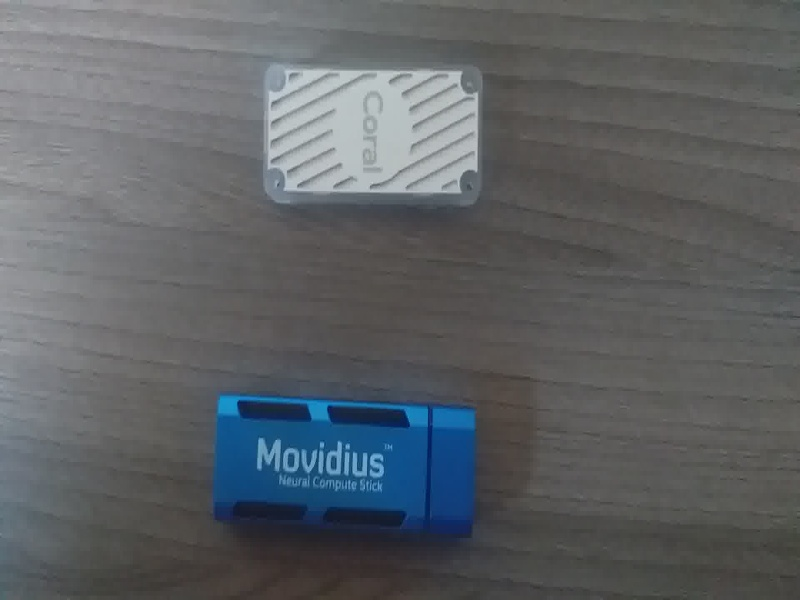coral: (247, 53, 508, 224)
movidius: (204, 380, 500, 549)
